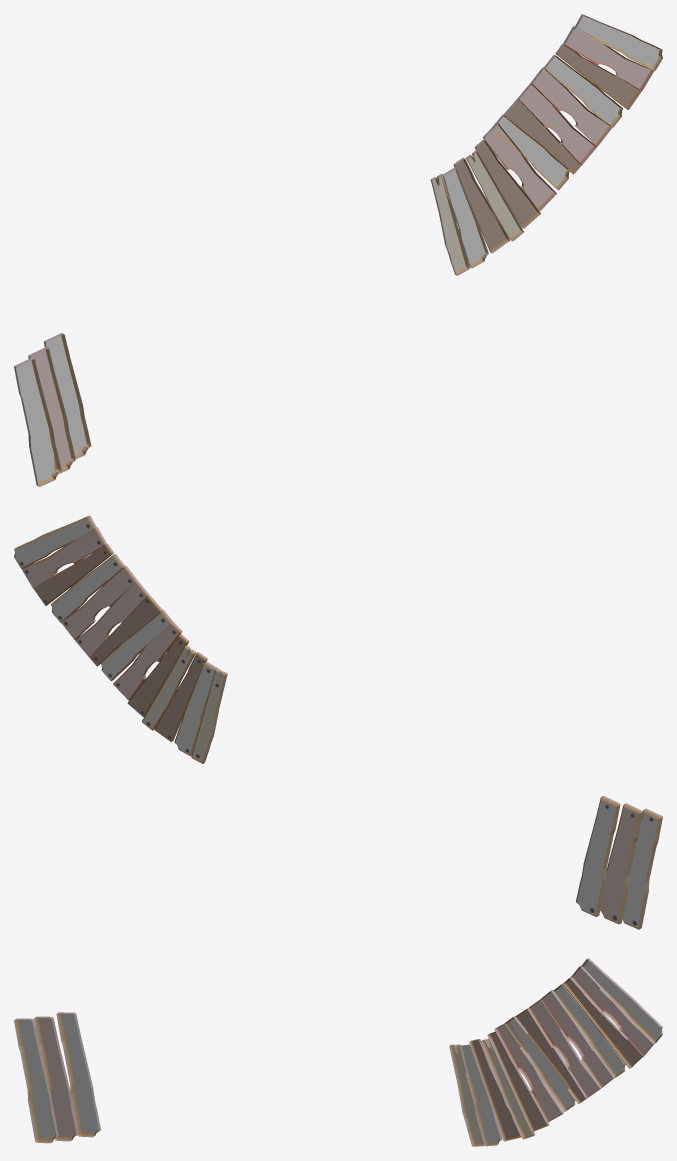
Rendered from WelcomeIcebergPlanks.fbx.
3 renders of one model, top to bottom at view 1: azimuth 30°, elevation 25°; view 2: azimuth 150°, elevation 25°; view 3: azimuth 330°, elevation 25°, orthographic. The views are drawn at different scales.
Parts seen in each view (by area): view 1: WelcomeIcebergPlanks; view 2: WelcomeIcebergPlanks; view 3: WelcomeIcebergPlanks.
Boxes of the visible parts, bbox=[...] form: WelcomeIcebergPlanks: bbox=[14, 14, 662, 486]; WelcomeIcebergPlanks: bbox=[14, 515, 662, 929]; WelcomeIcebergPlanks: bbox=[14, 958, 662, 1146].
Size of the model in its own units: 1163 by 528 by 78.77.
